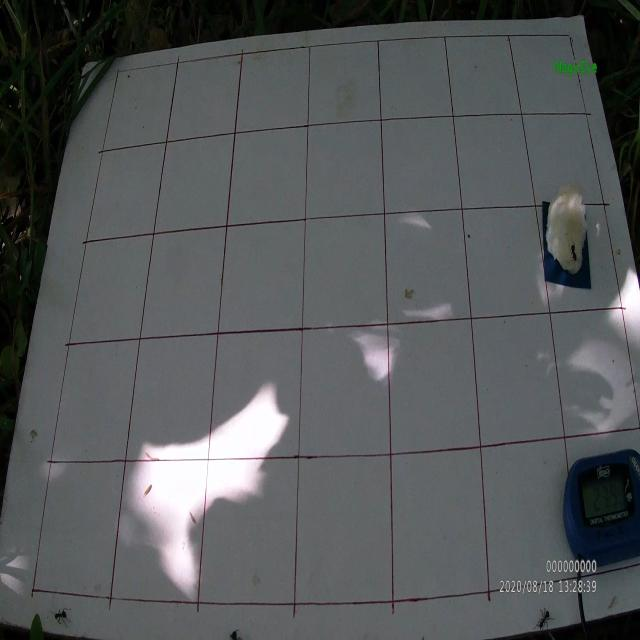Ant: (533, 606, 555, 633), (50, 605, 72, 629), (568, 238, 579, 264)
